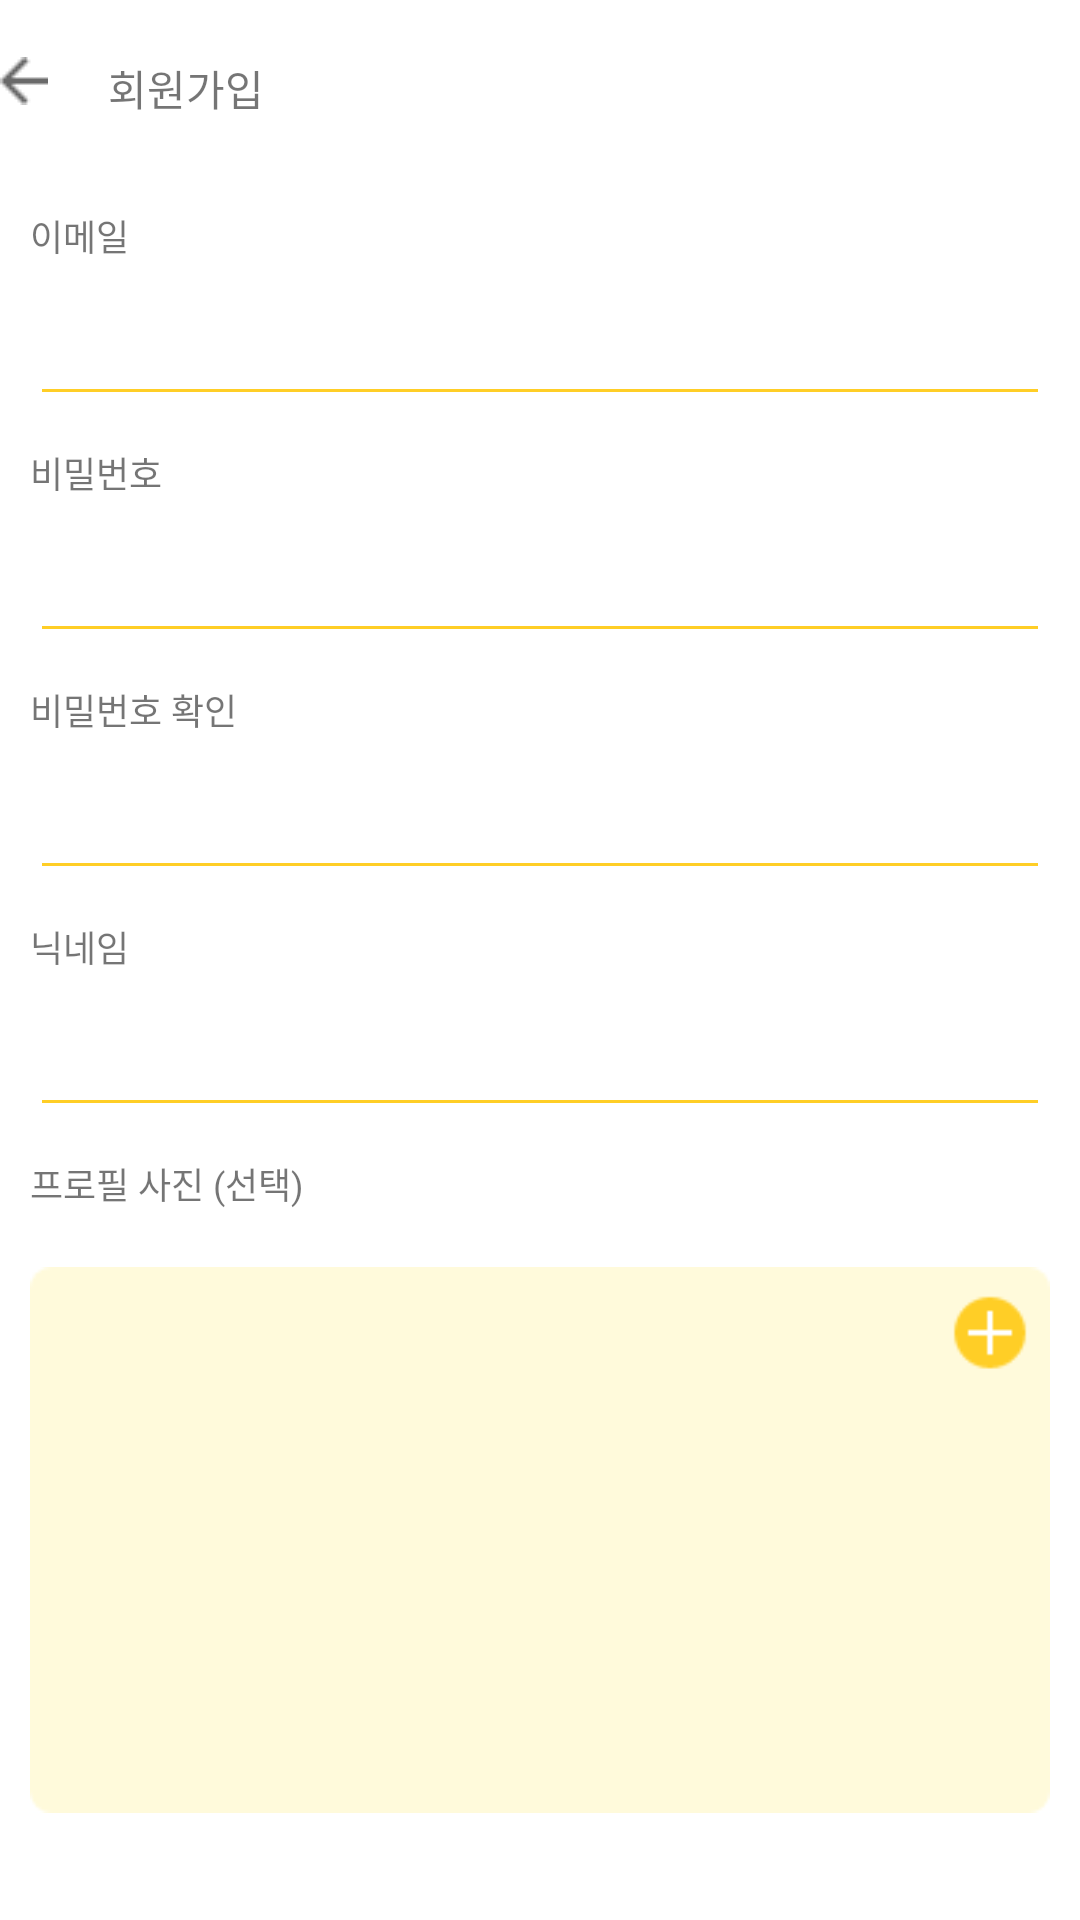

Named icons in this screenshot (1080px×1920px) and their centers, point (x, y):
back: point (24, 81)
